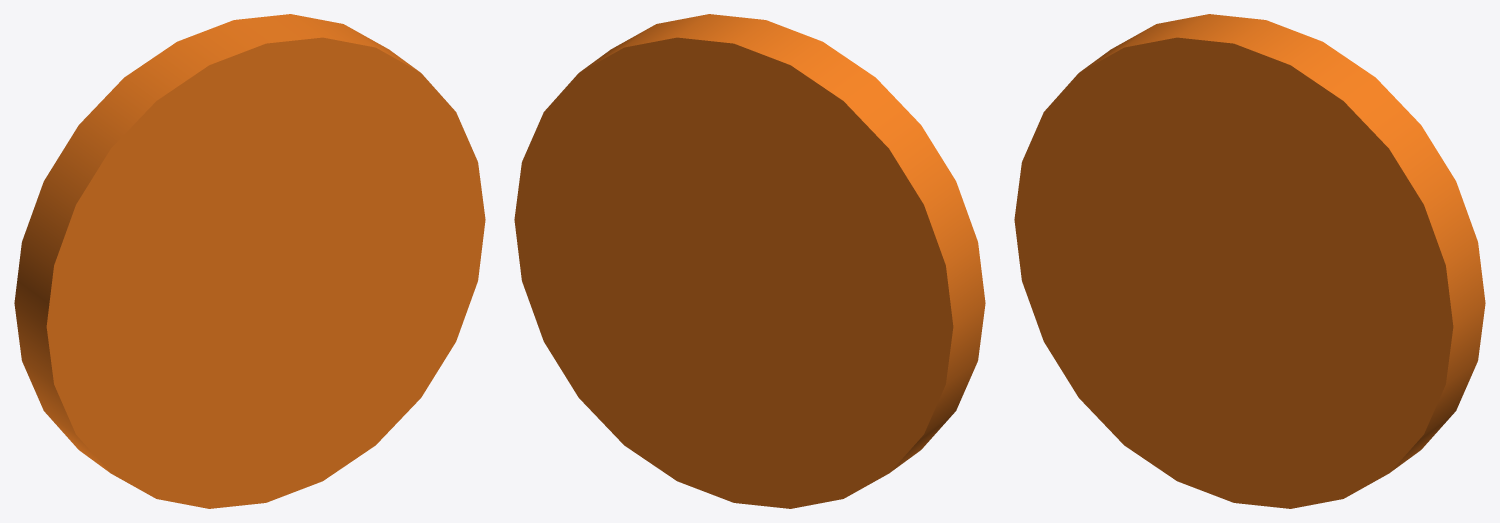
3 renders of one model, left to right at view 1: azimuth 30°, elevation 25°; view 2: azimuth 150°, elevation 25°; view 3: azimuth 330°, elevation 25°, orthographic.
Visible parts, largest first — view 1: gripper_frame; view 2: gripper_frame; view 3: gripper_frame.
Part boxes in pixels (<box>): gripper_frame: <box>14,14,485,508</box>; gripper_frame: <box>514,14,985,508</box>; gripper_frame: <box>1014,14,1485,508</box>.
Bounding box in the file's own units: 0.063 × 0.063 × 0.008.
